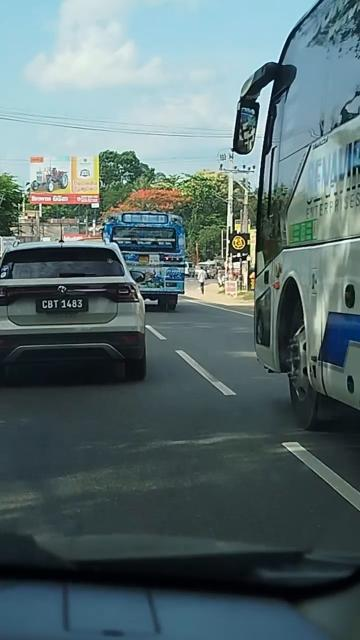number plate: (40, 297, 94, 318)
